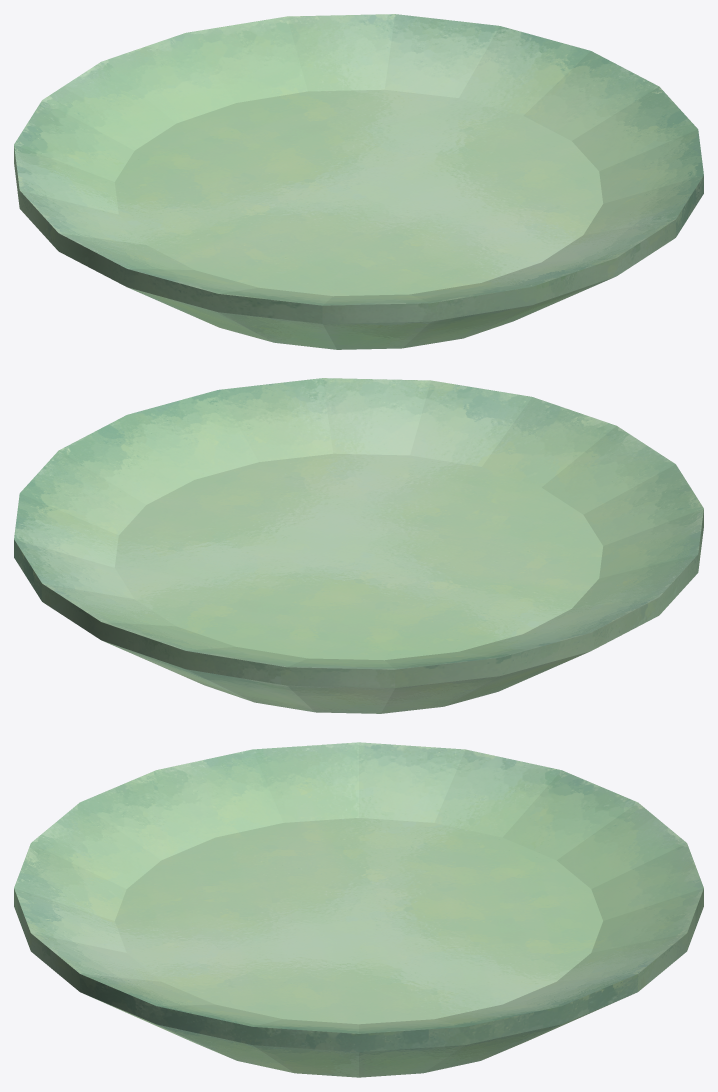
File: 19_Lv1_Plate1.fbx
3 renders of one model, top to bottom at view 1: azimuth 30°, elevation 25°; view 2: azimuth 150°, elevation 25°; view 3: azimuth 270°, elevation 25°, orthographic.
Visible parts, largest first — view 1: Bowl; view 2: Bowl; view 3: Bowl.
Boxes of the visible parts, x1,y1,x2,y2 form: Bowl: (14,14,703,349); Bowl: (14,378,703,713); Bowl: (14,742,703,1077).
Size of the model in its own units: 776 by 126 by 776.
